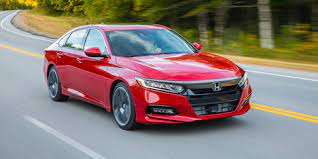car: (43, 22, 254, 131)
